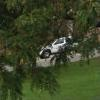Tree: (6, 0, 100, 44)
